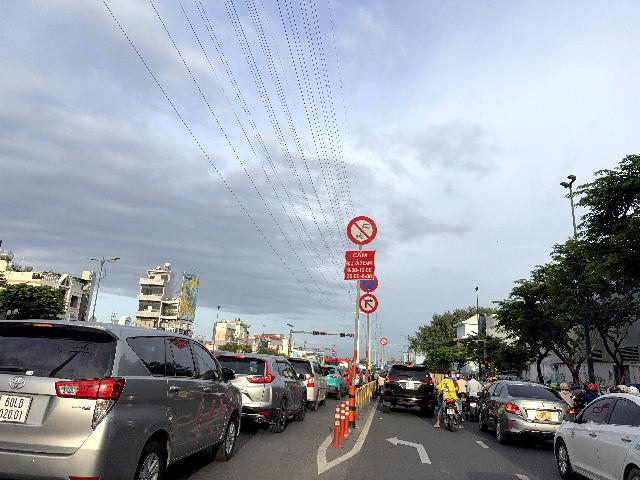cam-re-phai: (359, 293, 378, 314)
cam-xe-2-banh-3-banh: (346, 216, 377, 245)
